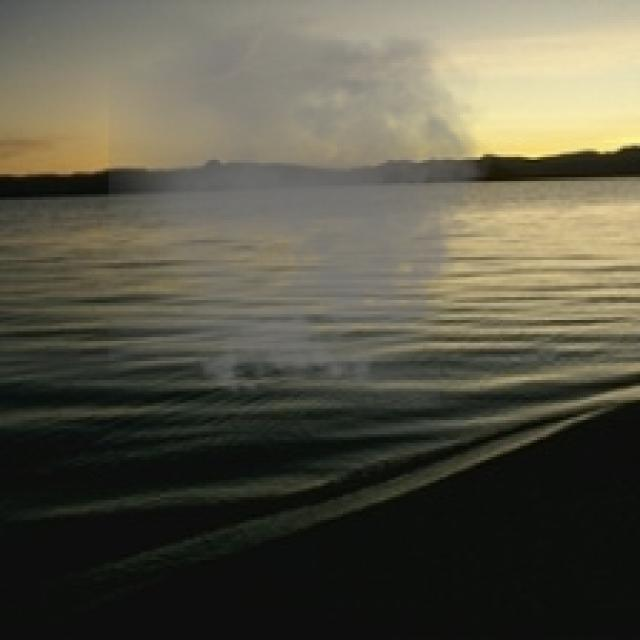Smoke: (108, 11, 506, 406)
